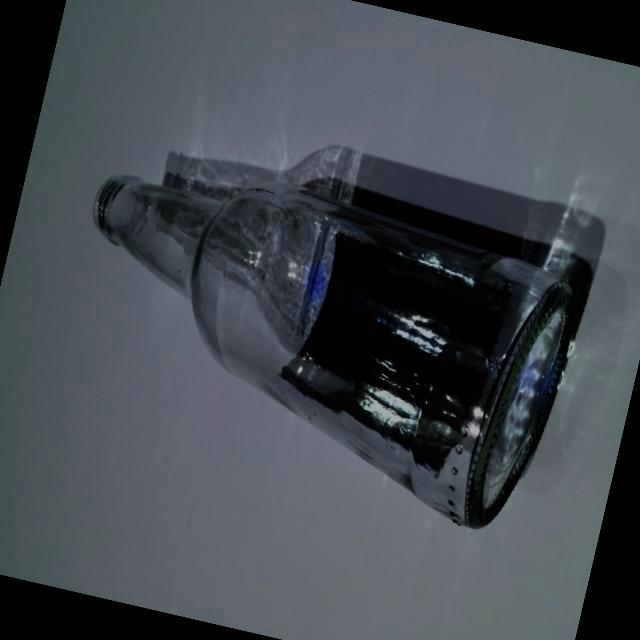glass: (34, 129, 602, 553)
